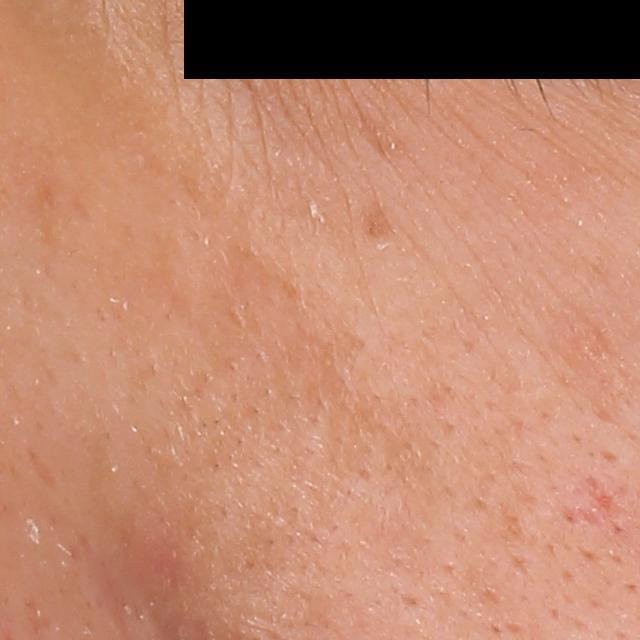melasma: (354, 200, 402, 244)
